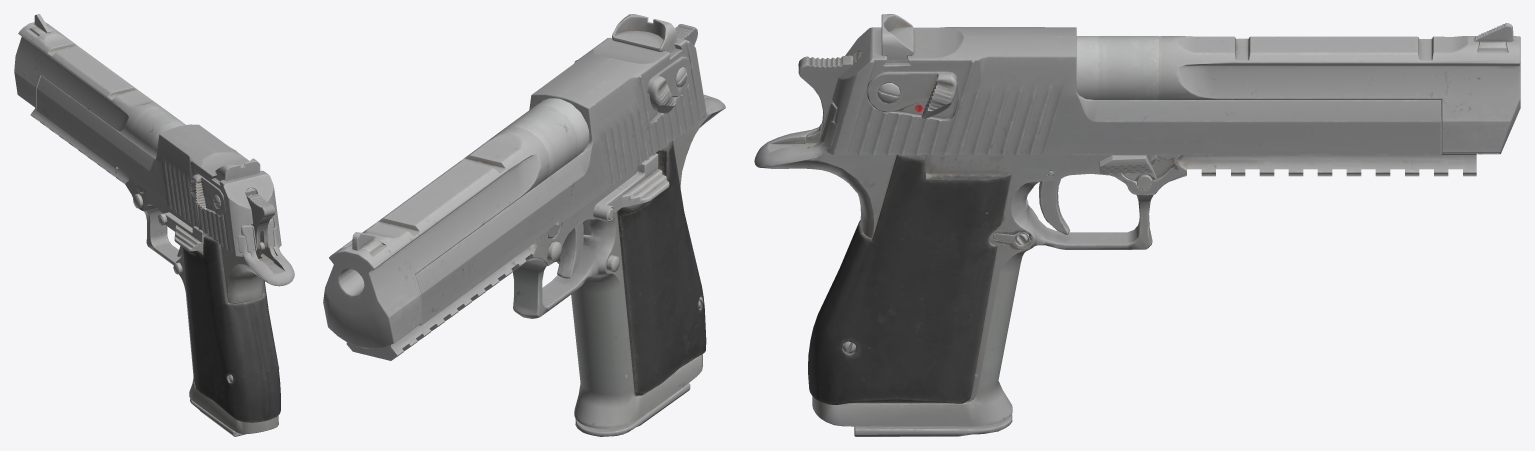
The model's file is desert-eagle.glb.
The picture shows the model from 3 angles, left to right: view 1: azimuth 30°, elevation 25°; view 2: azimuth 150°, elevation 25°; view 3: azimuth 270°, elevation 25°; orthographic projection. The views are drawn at different scales.
Parts seen in each view (by area): view 1: rest_steel, slide_steel, magazine_steel; view 2: rest_steel, slide_steel, magazine_steel; view 3: rest_steel, slide_steel, magazine_steel.
Boxes of the visible parts, x1,y1,x2,y2 form: rest_steel: (14, 14, 294, 433); slide_steel: (37, 75, 281, 256); magazine_steel: (190, 302, 246, 436); rest_steel: (323, 24, 725, 428); slide_steel: (415, 14, 706, 325); magazine_steel: (575, 219, 690, 436); rest_steel: (754, 23, 1520, 426); slide_steel: (827, 14, 1441, 155); magazine_steel: (854, 415, 1012, 436).
Bounding box in the file's own units: 0.0466 × 0.1776 × 0.3079.
1 material, 1 textured.
